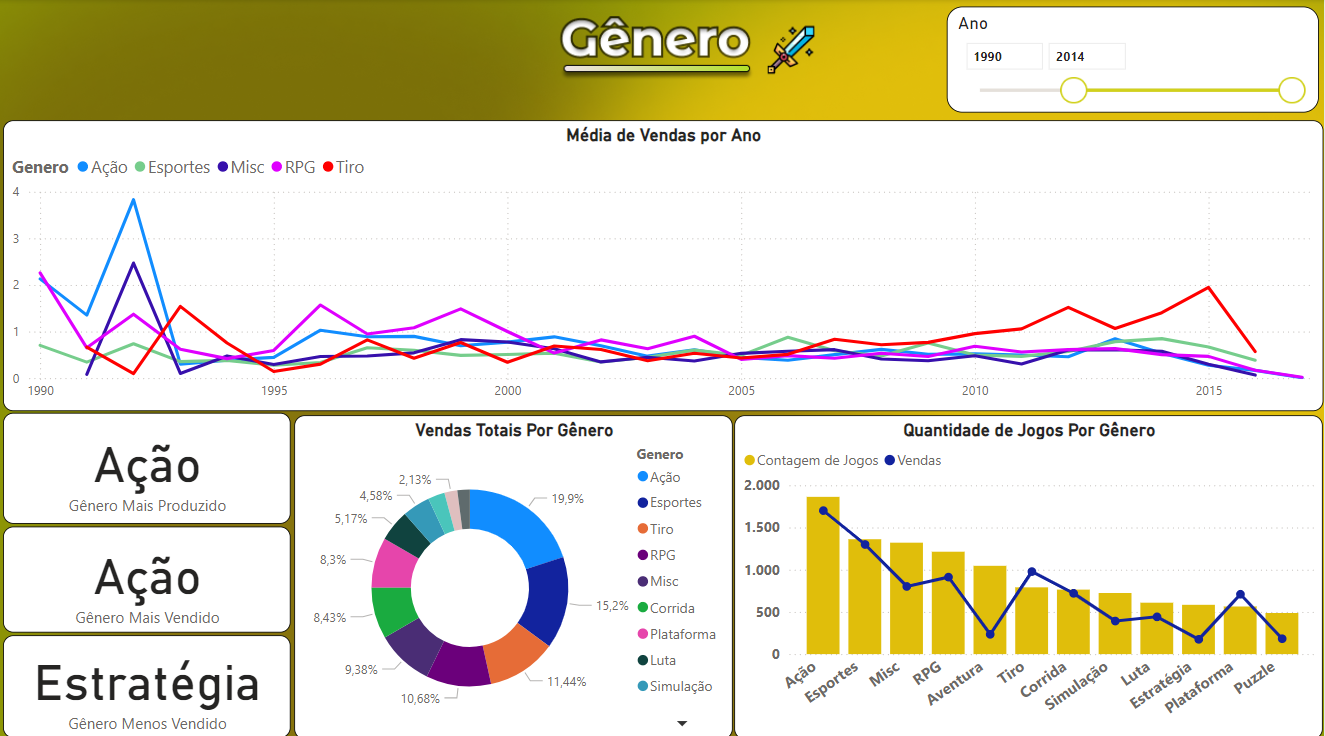

The page's visual inventory and layout, read from the dashboard file:
{"tool":"powerbi","page":{"name":"Performance por Gênero","canvas":[1280,720],"ordinal":4},"visuals":[{"type":"donutChart","title":"Vendas Totais Por Gênero","fields":{"Y":["Sum(games-Final.Vendas_Totais)"],"Category":["games-Final.Genero"]},"box":[9.7,317.7,687.8,385.3],"z":0},{"type":"lineChart","title":"Média de Vendas por Ano (Apartir de 2000)","fields":{"Category":["games-Final.Ano_lancamento.Variation.Hierarquia de datas.Ano"],"Y":["Avg(games-Final.Vendas_Totais)"],"Series":["games-Final.Genero"]},"box":[9.7,93.9,729.2,214.1],"z":1000},{"type":"pivotTable","fields":{"Rows":["games-Final.Genero"],"Values":["Sum(games-Final.Vendas_JP)","Sum(games-Final.Vendas_Europa)","Sum(games-Final.Vendas_EUA)","Sum(games-Final.Outras_Vendas)"]},"box":[726.5,381.2,553.8,321.8],"z":2000},{"type":"lineClusteredColumnComboChart","title":"Quantidade de Jogos Por Gênero","fields":{"Category":["games-Final.Genero"],"Y":["Count(games-Final.Titulo)"],"Y2":["Sum(games-Final.Vendas_Totais)"]},"box":[761.3,94.1,518.8,252.1],"z":3000}]}

Visuals, with their boxes in screenshot pixels (x1, y1, x2, y2), scaled from the page's 1280x720 canvas onto the 1325x736 screenshot:
"Vendas Totais Por Gênero" donutChart: rect(10, 325, 722, 719)
"Média de Vendas por Ano (Apartir de 2000)" lineChart: rect(10, 96, 765, 315)
pivotTable - games-Final.Genero x Sum(games-Final.Vendas_JP): rect(752, 390, 1324, 719)
"Quantidade de Jogos Por Gênero" lineClusteredColumnComboChart: rect(788, 96, 1324, 354)
